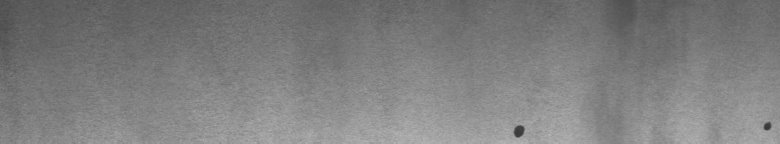fi: (505, 117, 532, 136)
